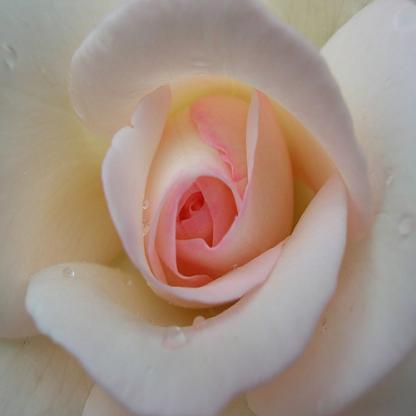ROSE-MAWAR: (37, 5, 366, 415)
